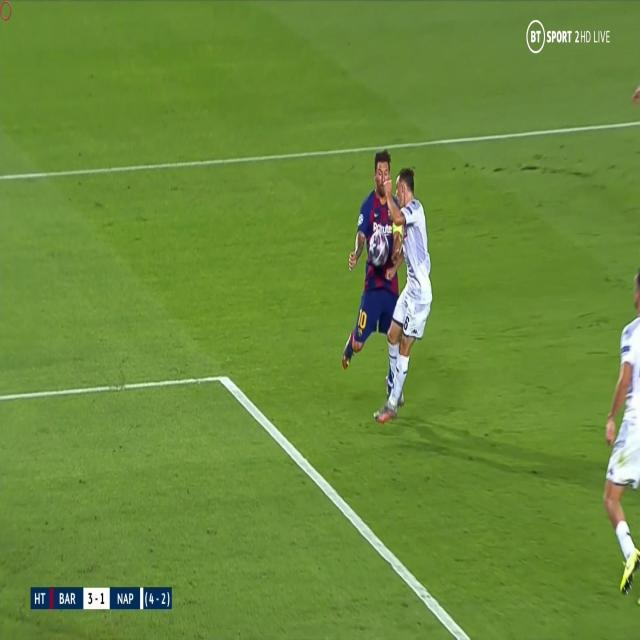ball: (368, 230, 389, 267)
player: (332, 142, 414, 418), (376, 154, 442, 428), (594, 248, 638, 600)
